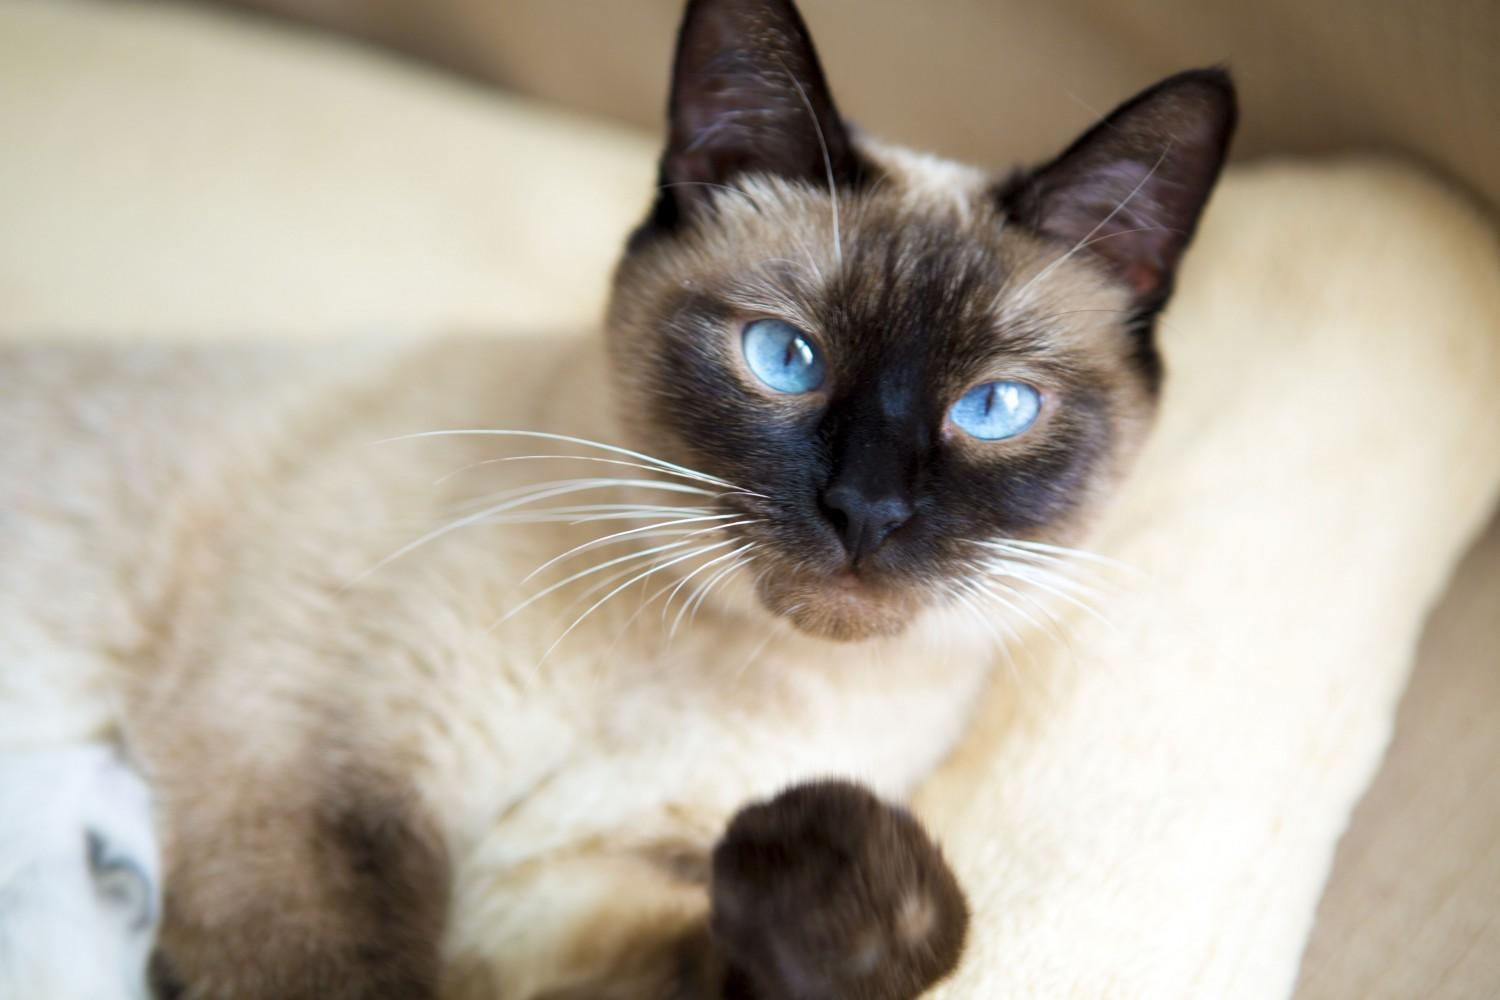siamese: (587, 1, 1265, 708)
